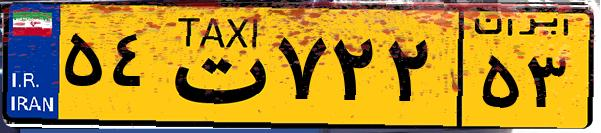2: (385, 28, 445, 110), (330, 28, 385, 110)
3: (525, 38, 570, 115)
4: (110, 28, 158, 98)
5: (57, 26, 110, 100), (475, 38, 525, 113)
7: (270, 28, 330, 110)
ت: (158, 12, 270, 120)
